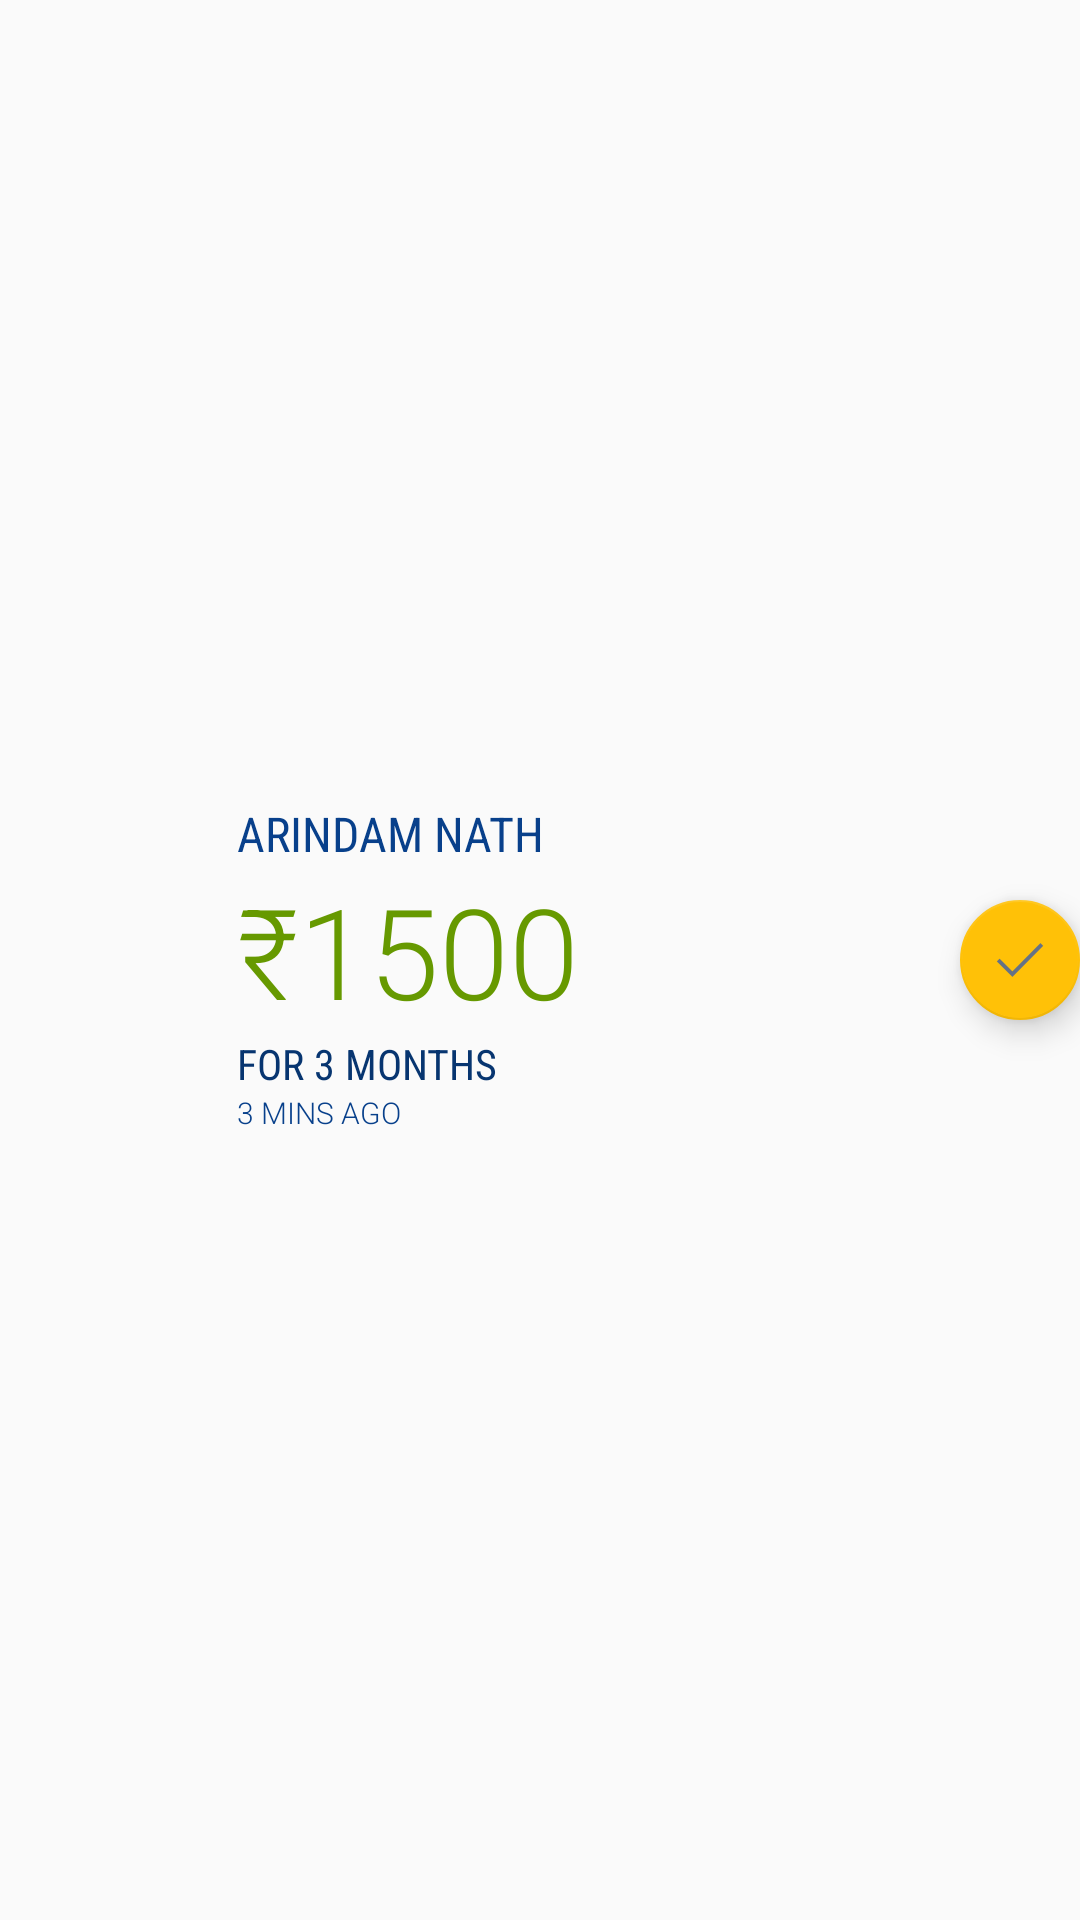

Point at icon controls on the screen. Image size 1080px×1920px, points as (x=x, y=y).
accept: (x=1020, y=960)
